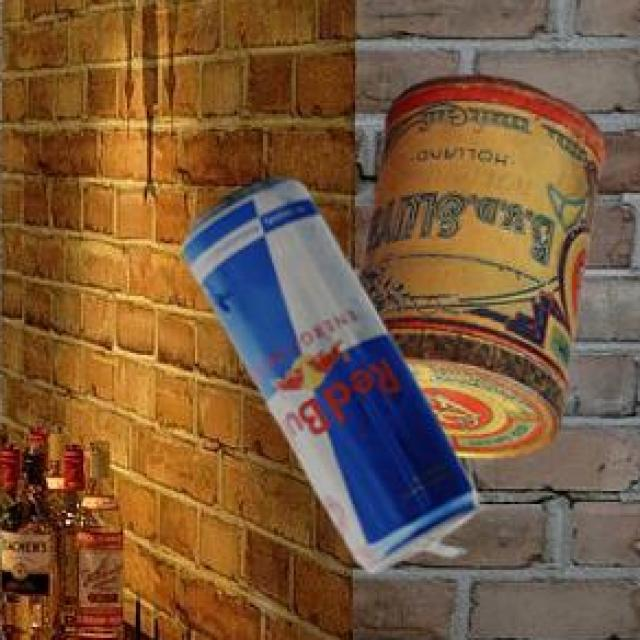logam: (181, 172, 479, 569), (354, 73, 604, 455)
